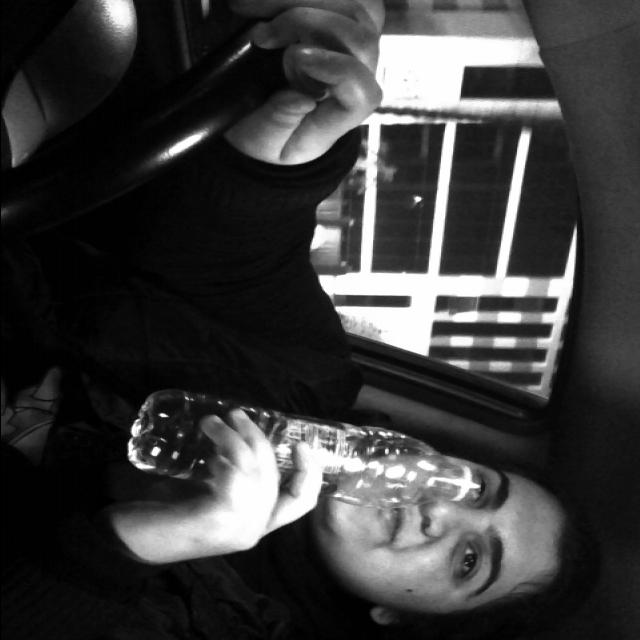drinking: (116, 383, 476, 505)
